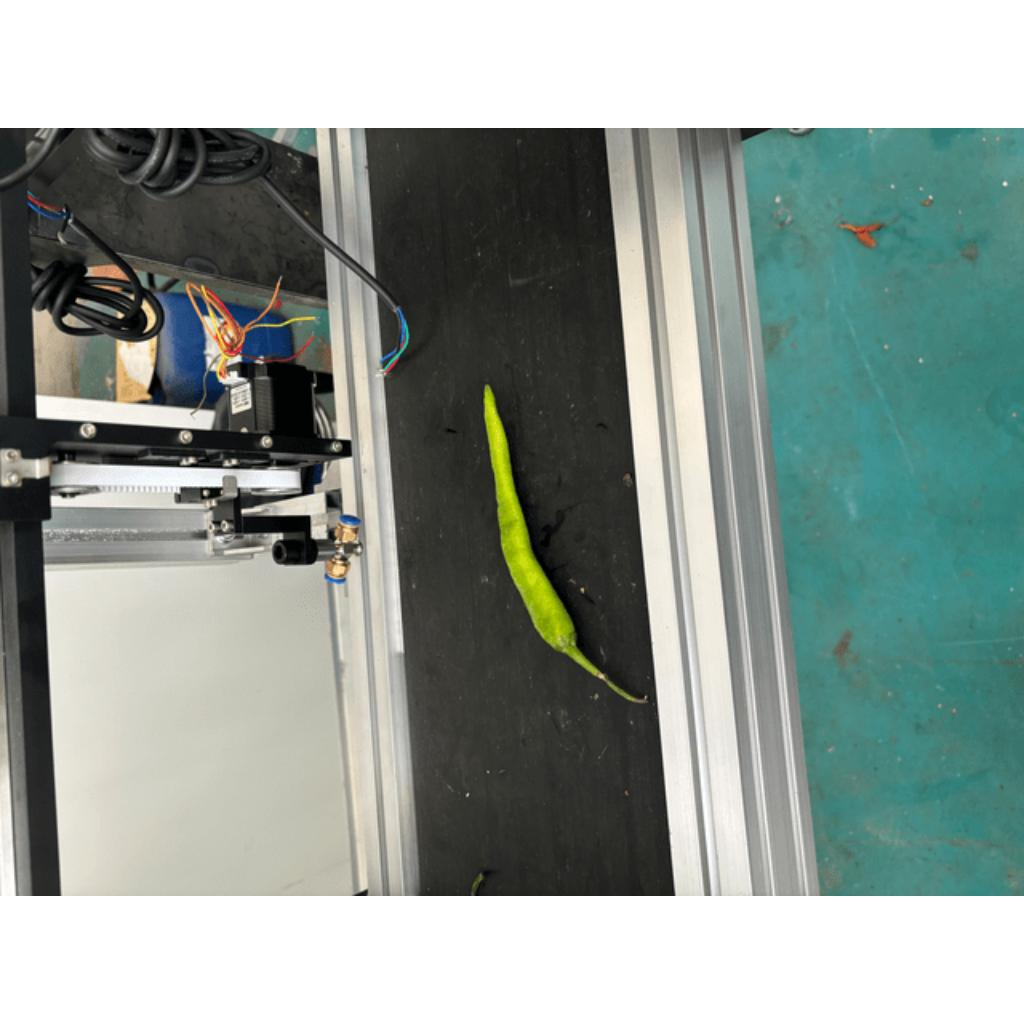chili: (482, 376, 576, 654)
